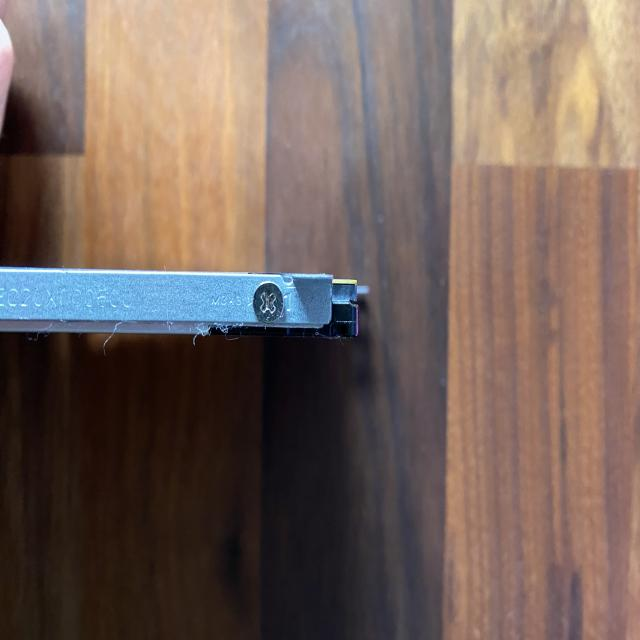PhillipsScrewHead: (250, 281, 286, 326)
